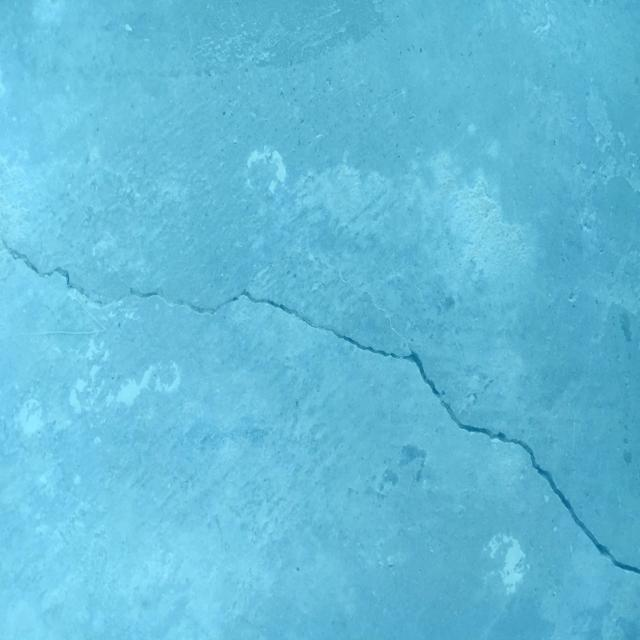crack: (130, 286, 640, 576), (1, 238, 85, 294)
